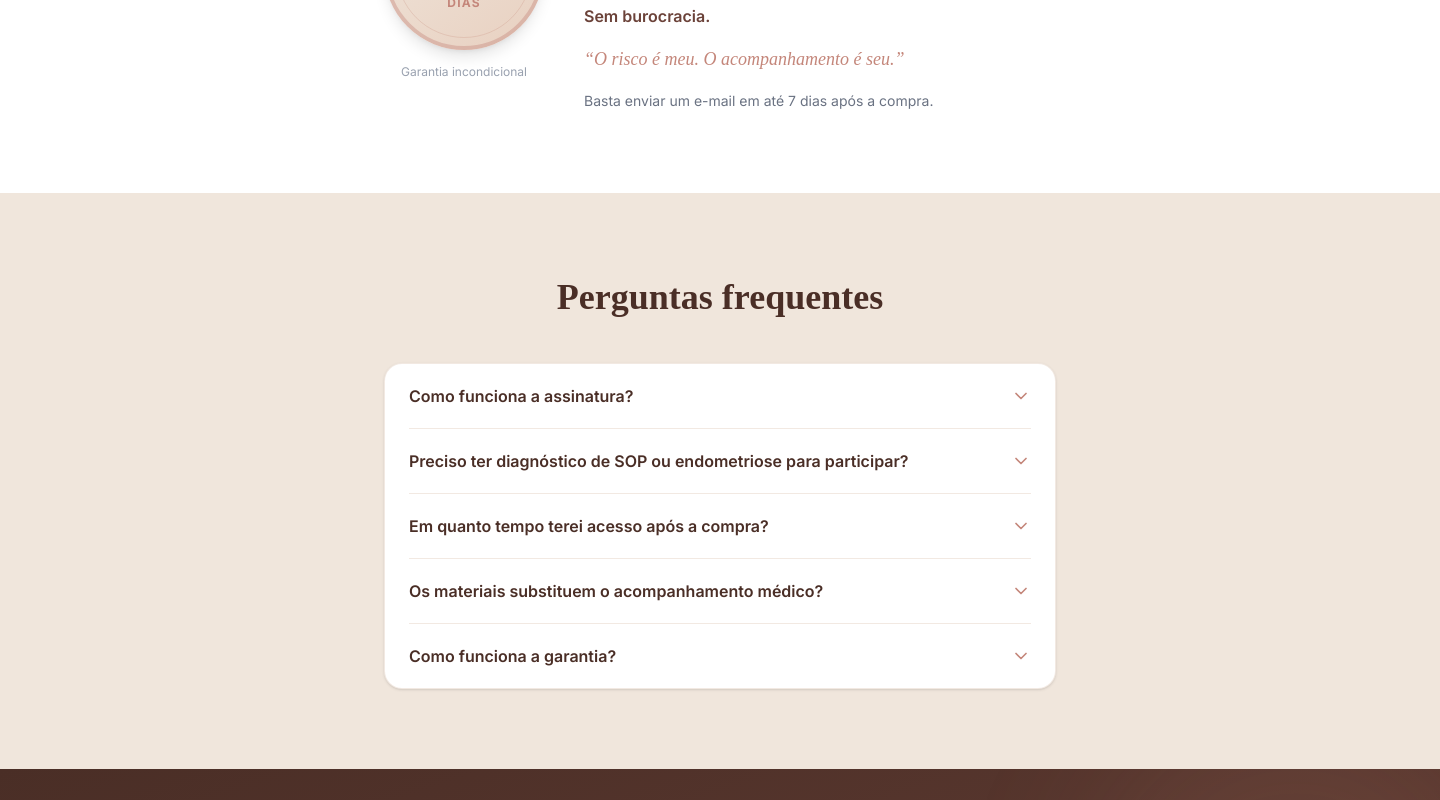
GmNaoTenteSoPage › abre e fecha uma pergunta do FAQ ao clicar
(page scrolled)
Click the button "Como funciona a assinatura?": [521, 396] box left=409, top=364, right=1031, bottom=428
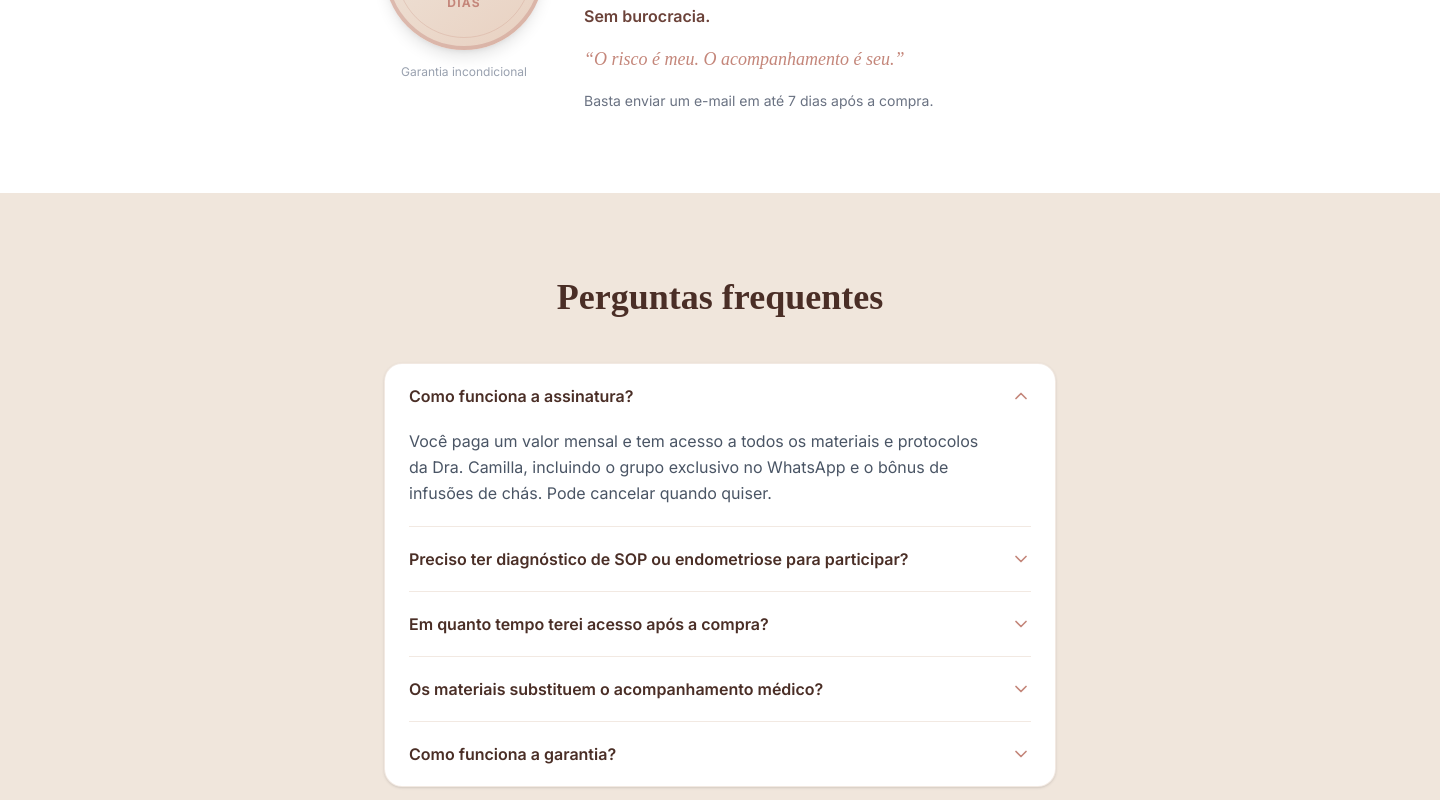
Now the button "Como funciona a assinatura?" is expanded, box left=409, top=364, right=1031, bottom=428
